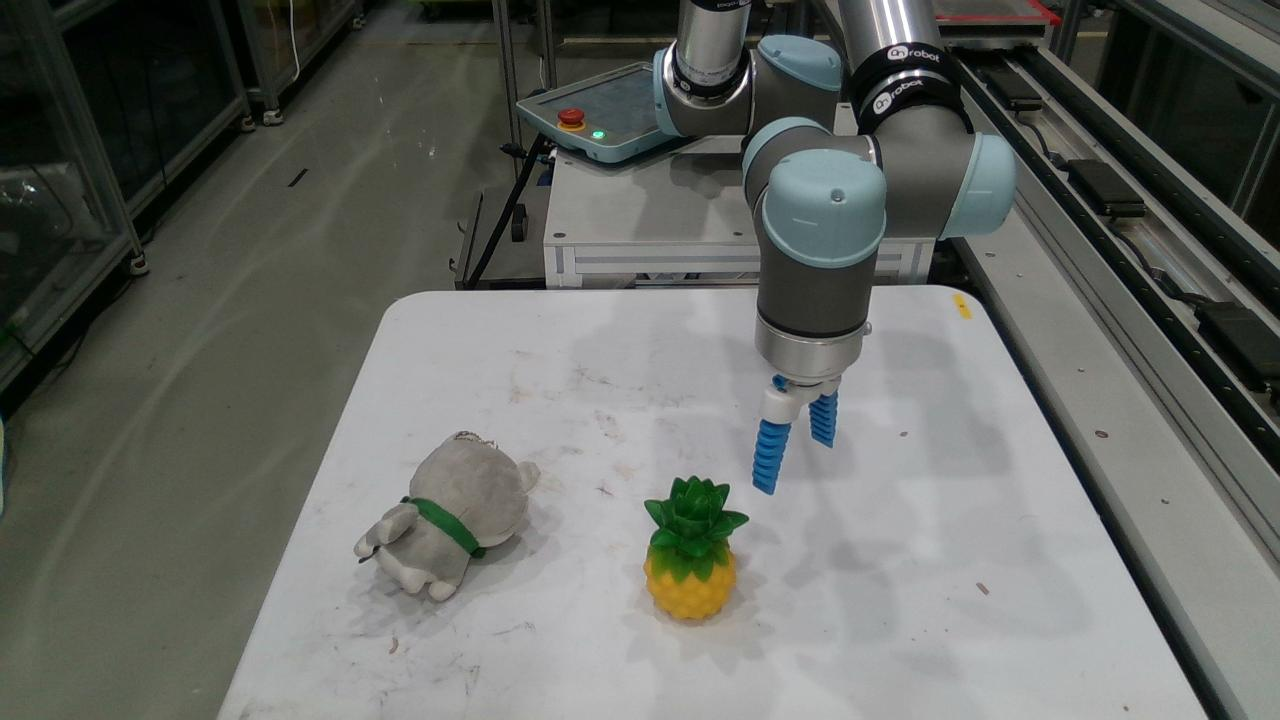UR5: (653, 0, 1017, 424)
gripper_left: (752, 419, 792, 494)
gripper_right: (810, 389, 838, 448)
target: (355, 431, 541, 599), (643, 474, 750, 619)
